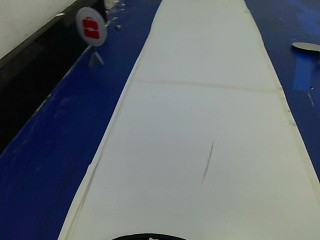company: (73, 6, 108, 47)
